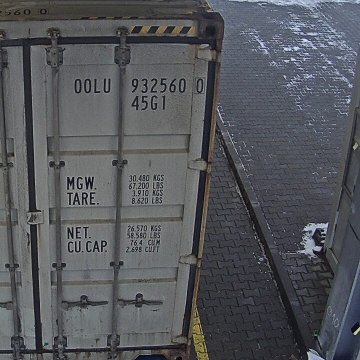serial_id: (74, 78, 204, 93)
